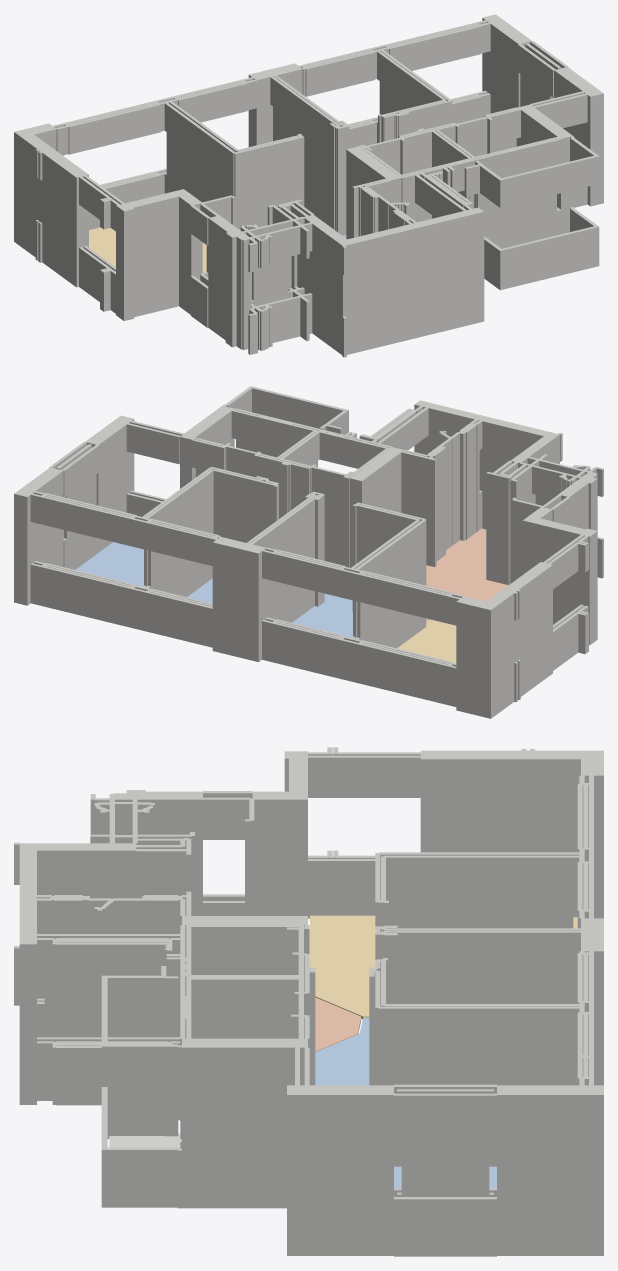
3 views of the same model, one above another, from view 1: azimuth 30°, elevation 25°; view 2: azimuth 150°, elevation 25°; view 3: azimuth 270°, elevation 25° (orthographic). The views are drawn at different scales.
Visible parts, largest first — view 1: walls, room:living:0; view 2: walls, room:kitchen:5, room:bedroom:2, room:bedroom:1, room:living:0; view 3: walls, room:living:0, room:bedroom:1, room:kitchen:5, room:ledge:7.
Part boxes in pixels (x1,y1,x2,y2): walls: (14, 14, 603, 357); room:living:0: (89, 227, 206, 272); walls: (14, 386, 603, 718); room:kitchen:5: (426, 528, 508, 620); room:bedroom:2: (75, 542, 143, 586); room:bedroom:1: (292, 593, 352, 637); room:living:0: (397, 620, 456, 663); walls: (14, 747, 603, 1256); room:living:0: (309, 915, 577, 1019); room:bedroom:1: (315, 1017, 369, 1085); room:kitchen:5: (315, 997, 361, 1051); room:ledge:7: (109, 1133, 180, 1148).
Bounding box in the file's own units: 13.01 × 2.8 × 9.31.
